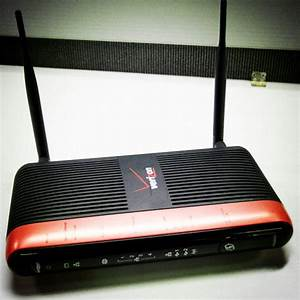Verizon Router: (1, 82, 296, 288)
